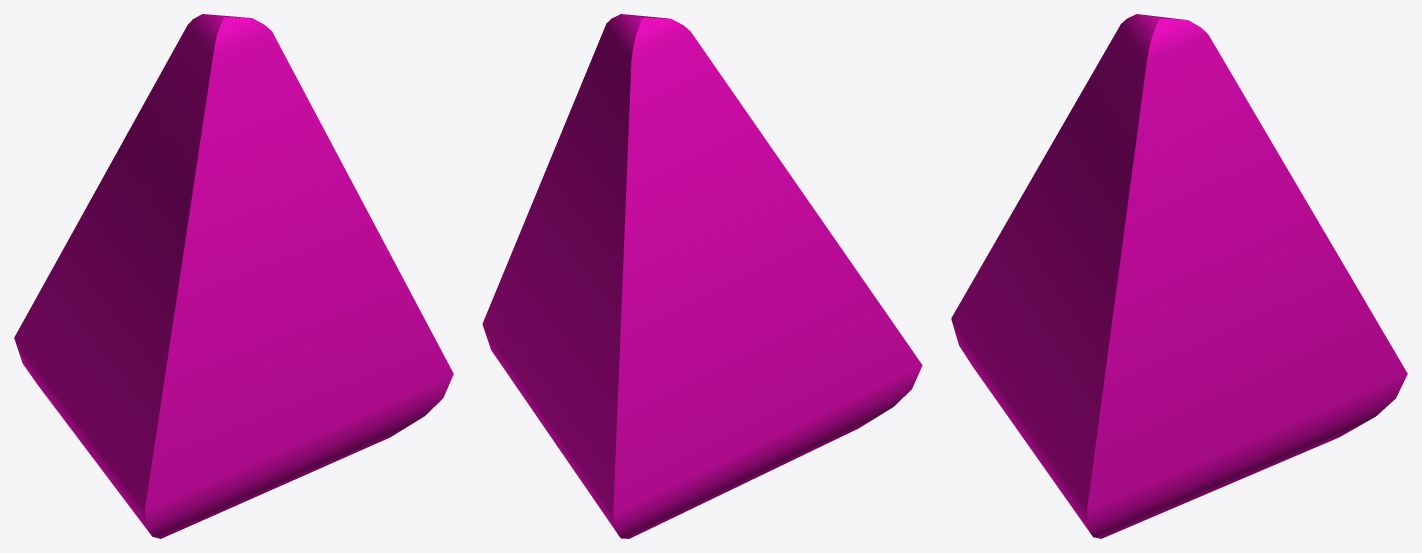
Rendered from p_mesh_hvs_lemonium_chunk_part04.fbx.
3 views of the same model, side by side, from view 1: azimuth 30°, elevation 25°; view 2: azimuth 150°, elevation 25°; view 3: azimuth 270°, elevation 25° (orthographic). The views are drawn at different scales.
Parts seen in each view (by area): view 1: p_harvests_lemonium.002; view 2: p_harvests_lemonium.002; view 3: p_harvests_lemonium.002.
Part boxes in pixels (<box>): p_harvests_lemonium.002: <box>14,14,453,538</box>; p_harvests_lemonium.002: <box>482,14,922,538</box>; p_harvests_lemonium.002: <box>951,14,1407,538</box>.
Size of the model in its own units: 1.3 by 1.48 by 1.32.
